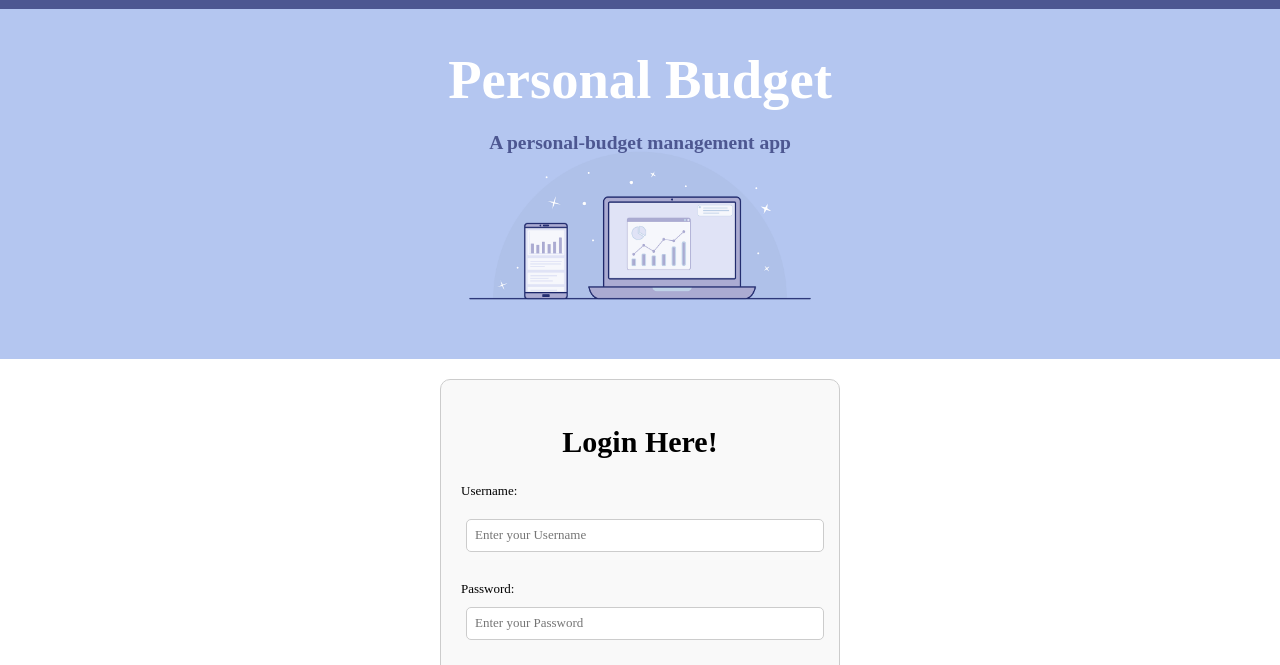
it: Login Page › displays an error message with invalid credentials
This screenshot has width=1280, height=665.
# Enter invalid credentials
In the field with id "username": (645, 536) [466,519,824,552], type "invalidUsername"
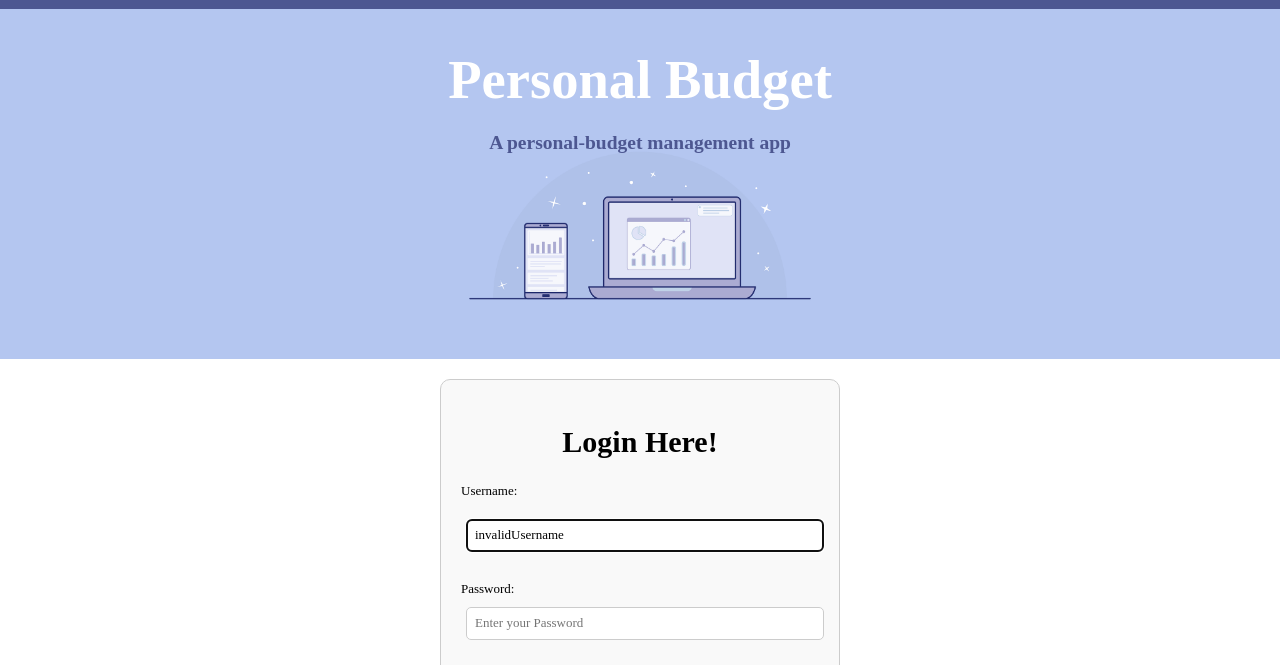
In the password field labelled "Password:": (645, 624) [466,607,824,640], type "invalidPassword"
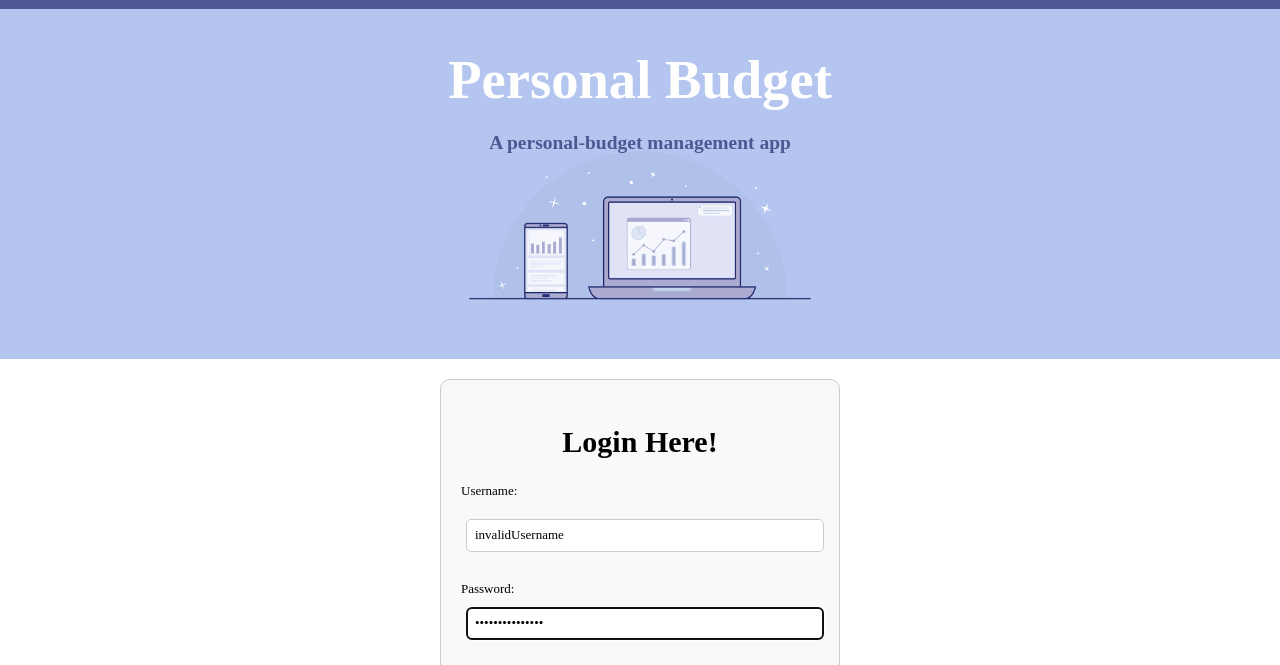
Scroll
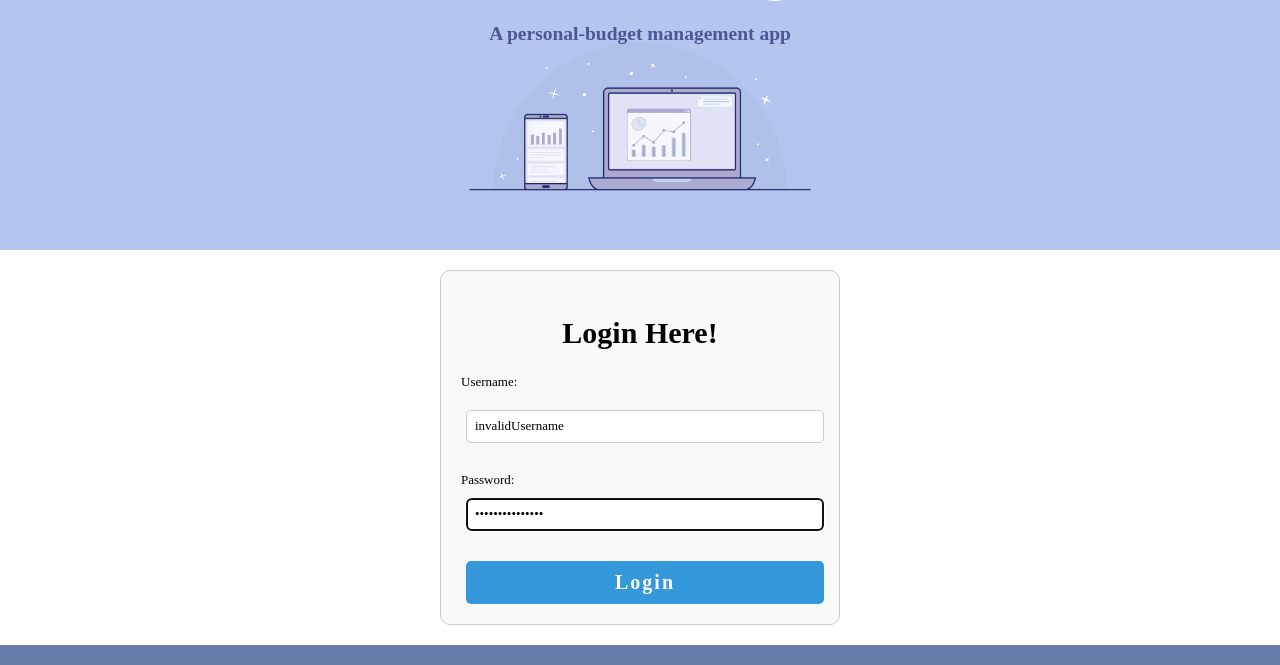
# Submit the form
Submit the form, box [461,375,819,604]
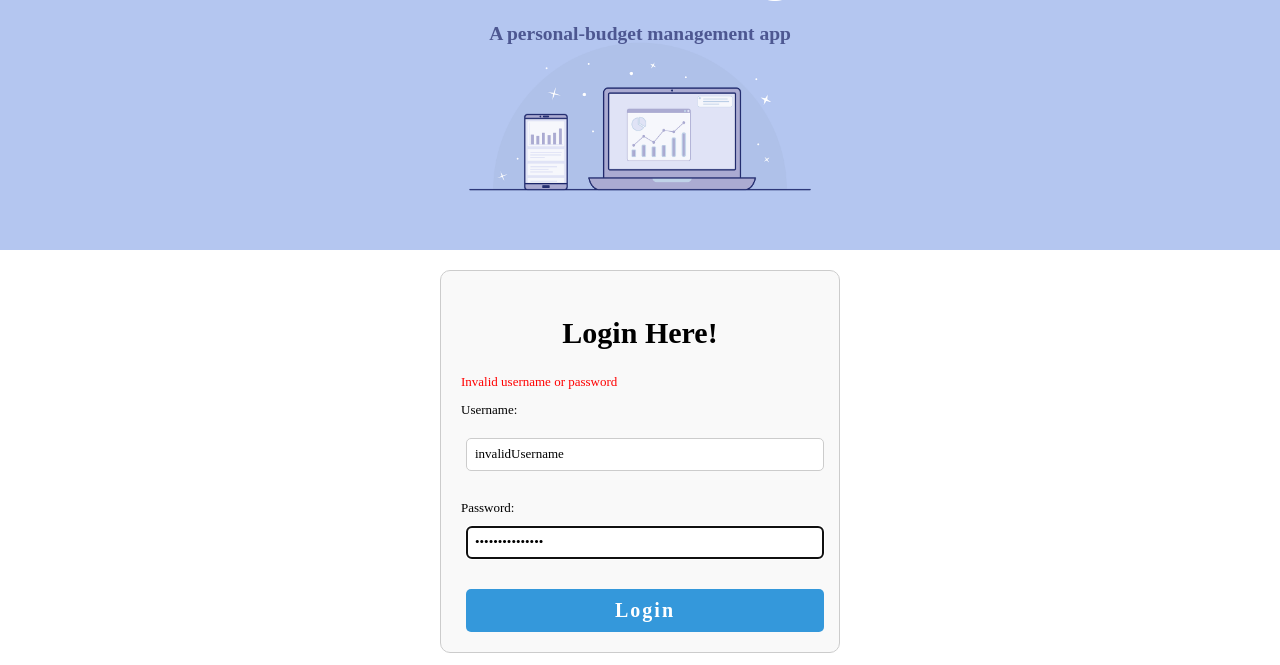
Now the text "Invalid username or password" is shown, box [461,374,617,389]
